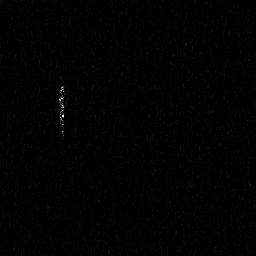ship: (57, 83, 68, 142)
